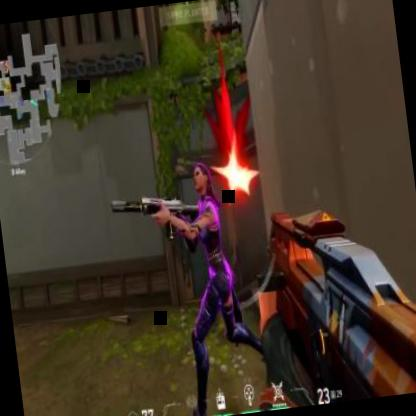enemy: (140, 153, 285, 416)
enemy_head: (189, 162, 211, 198)
